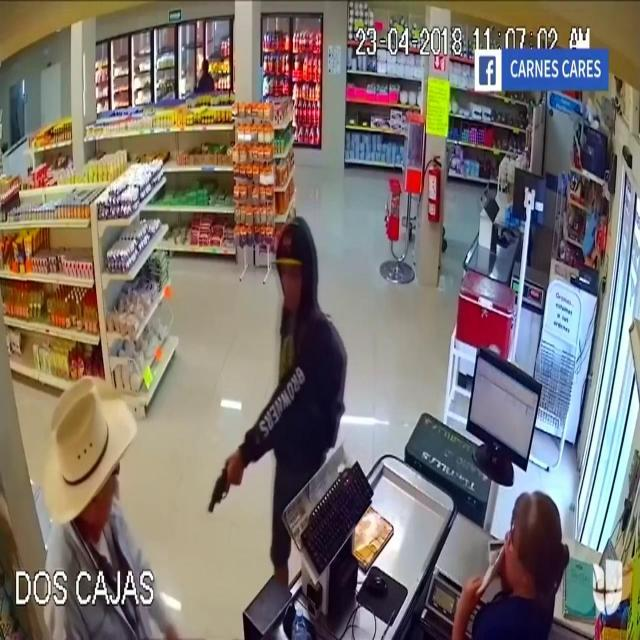weapon: (200, 428, 238, 534)
